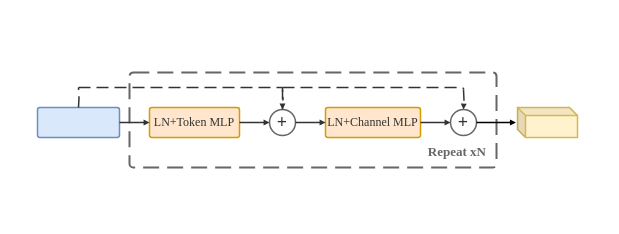
Image size: 619x234. Some labels were removed from this diagram. Here are the shapes that lost their labels. From the top down, the centre of each, then its label:
At point (78, 122): "Patch Embedding".
At point (547, 122): "Output".
